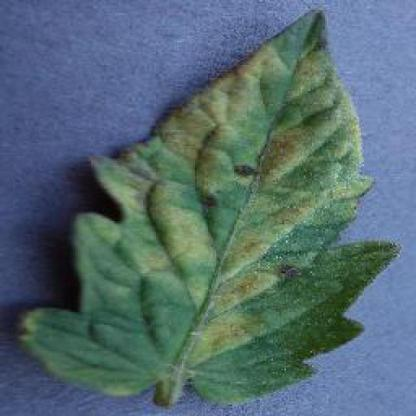Tomato_Leaf_Mold: (19, 5, 399, 394)
